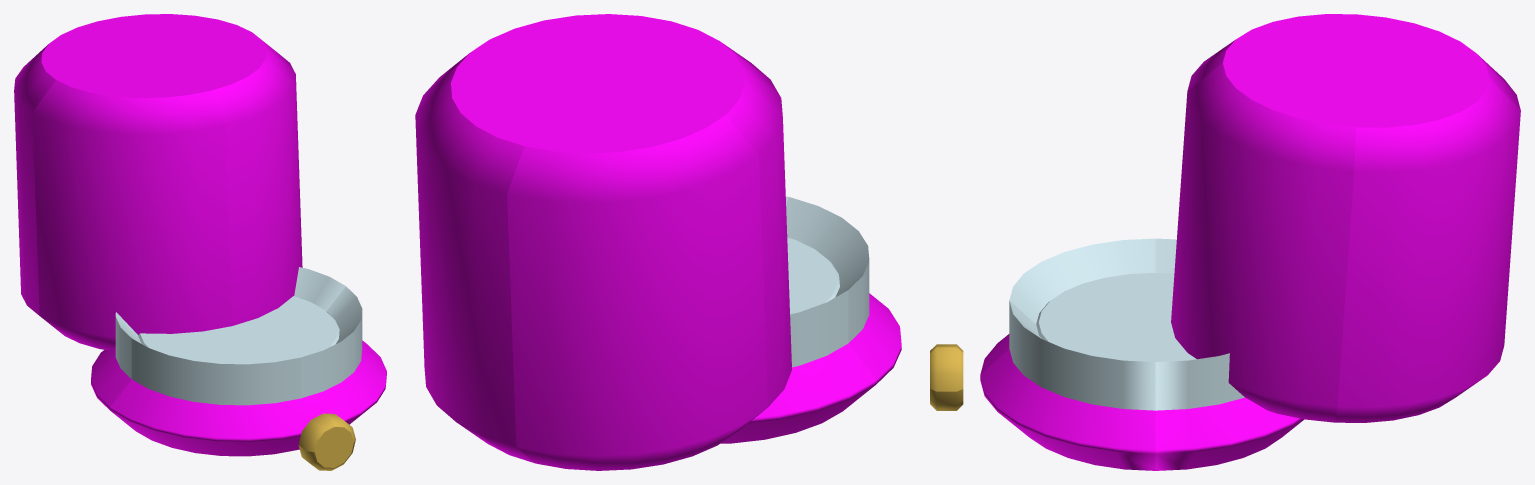
The model's file is objet_boussole.glb.
3 views of the same model, side by side, from view 1: azimuth 30°, elevation 25°; view 2: azimuth 150°, elevation 25°; view 3: azimuth 270°, elevation 25° (orthographic). The views are drawn at different scales.
Visible parts, largest first — view 1: couvercle_teinte.002, boussole_verre_clair.002, boussole_teinte.002, boussole_laiton.002; view 2: couvercle_teinte.002, boussole_verre_clair.002, boussole_teinte.002; view 3: couvercle_teinte.002, boussole_verre_clair.002, boussole_teinte.002, boussole_laiton.002.
Boxes of the visible parts, bbox=[...] form: couvercle_teinte.002: bbox=[14, 14, 302, 350]; boussole_verre_clair.002: bbox=[115, 267, 362, 405]; boussole_teinte.002: bbox=[91, 340, 386, 456]; boussole_laiton.002: bbox=[298, 413, 355, 470]; couvercle_teinte.002: bbox=[415, 14, 791, 470]; boussole_verre_clair.002: bbox=[785, 196, 869, 367]; boussole_teinte.002: bbox=[721, 293, 901, 443]; couvercle_teinte.002: bbox=[1171, 14, 1520, 422]; boussole_verre_clair.002: bbox=[1009, 238, 1244, 410]; boussole_teinte.002: bbox=[980, 334, 1304, 470]; boussole_laiton.002: bbox=[930, 344, 963, 410].
Bounding box in the file's own units: 0.21 × 0.2301 × 0.3535.
